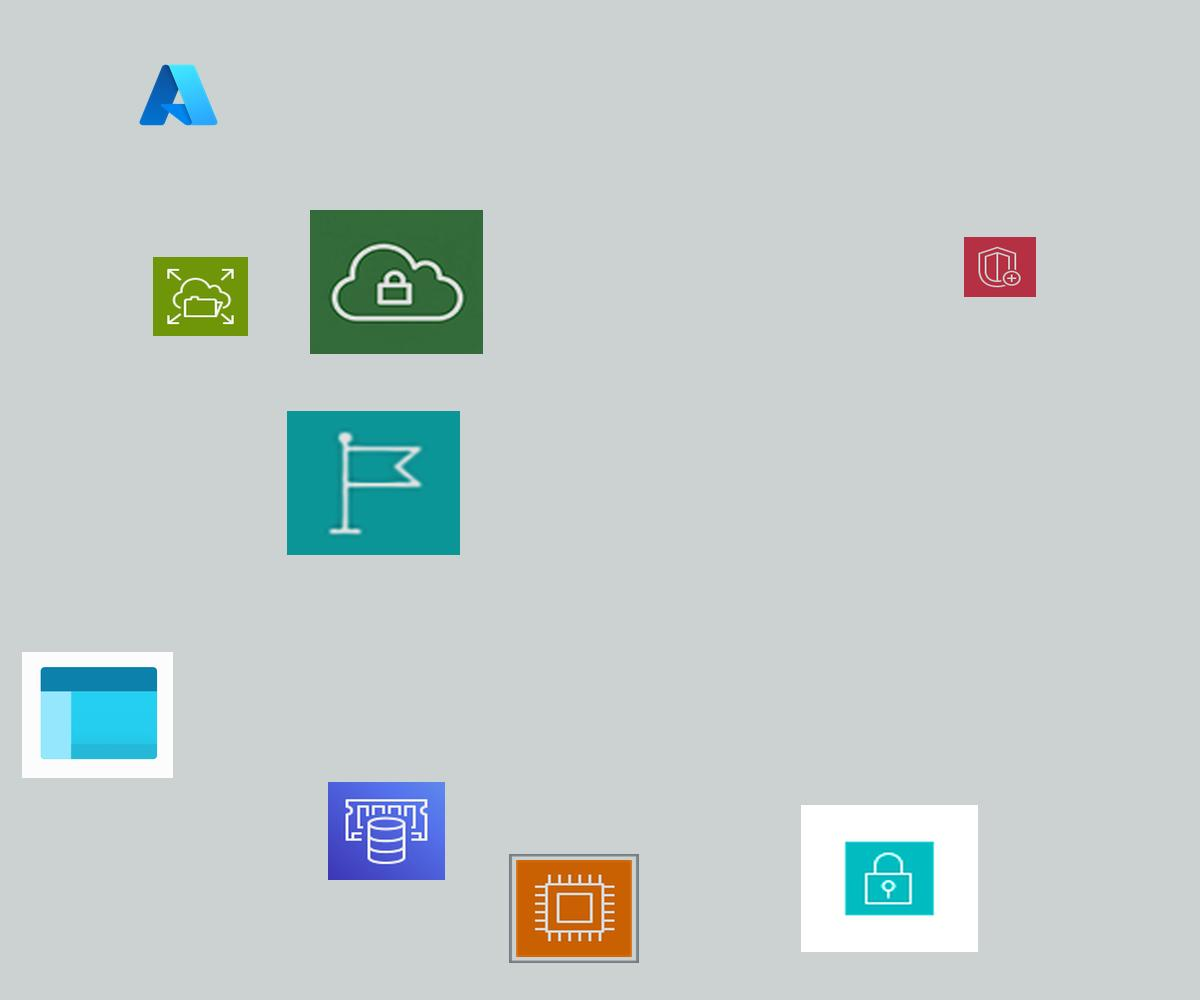AWS-Category_Compute: (509, 854, 639, 963)
AWS-EFS: (153, 257, 248, 336)
AWS-ElastiCache: (328, 782, 445, 880)
AWS-Private-subnet: (801, 805, 978, 952)
AWS-Private_vpc: (310, 210, 483, 354)
AWS-Region: (287, 411, 460, 555)
AWS-Shield: (964, 237, 1036, 297)
Azure_management-portal: (22, 652, 173, 778)
Azure_services: (136, 60, 221, 130)
